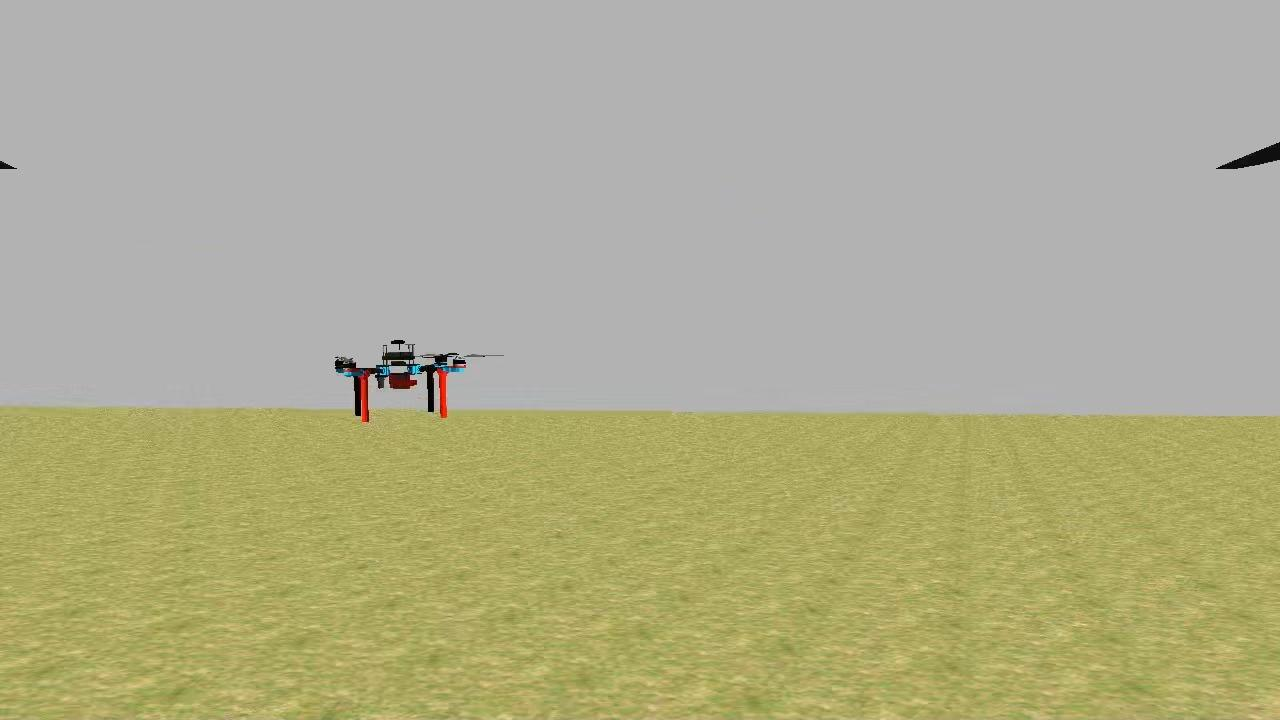UAV: (327, 330, 472, 429)
